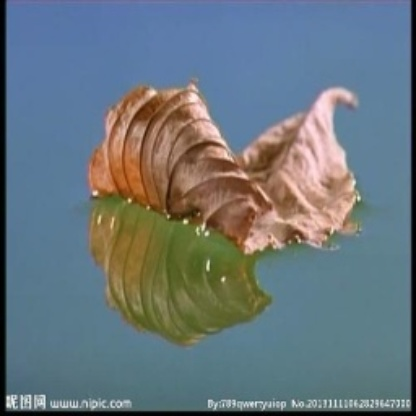leaf: (88, 80, 366, 256)
